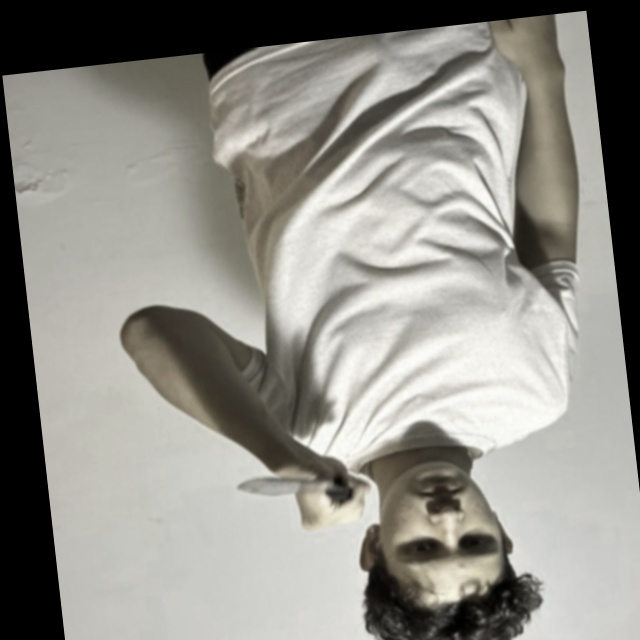Sharp-Object: (238, 470, 338, 502)
